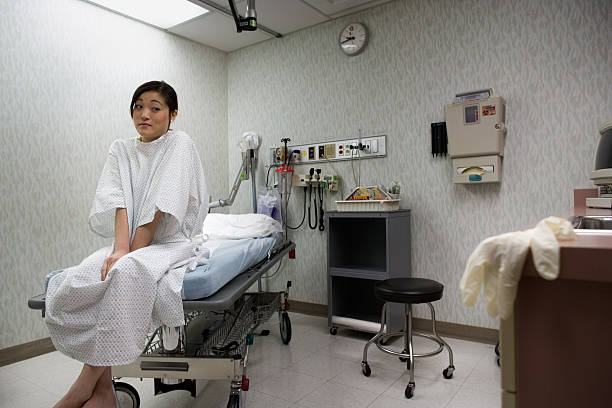bedside_table: (326, 210, 411, 343)
chair: (360, 276, 456, 400)
iv_pole: (281, 138, 294, 240)
medical_waste_container: (444, 89, 505, 157)
operating_bed: (27, 214, 296, 408)
patient: (42, 81, 209, 408)
